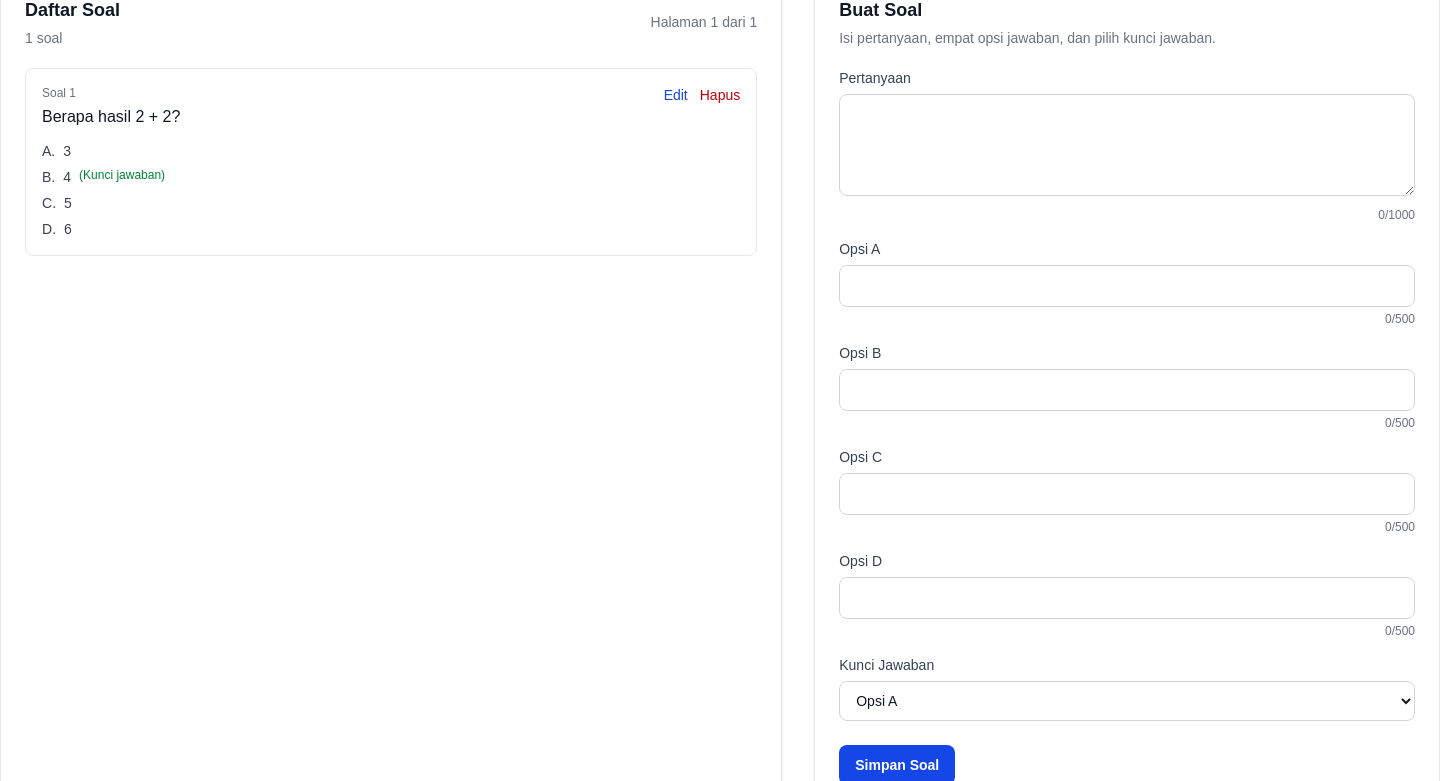
it: QuestionBank › loads a question for editing and updates it
Click the button "Edit".
click(676, 95)  # box [664, 85, 688, 105]
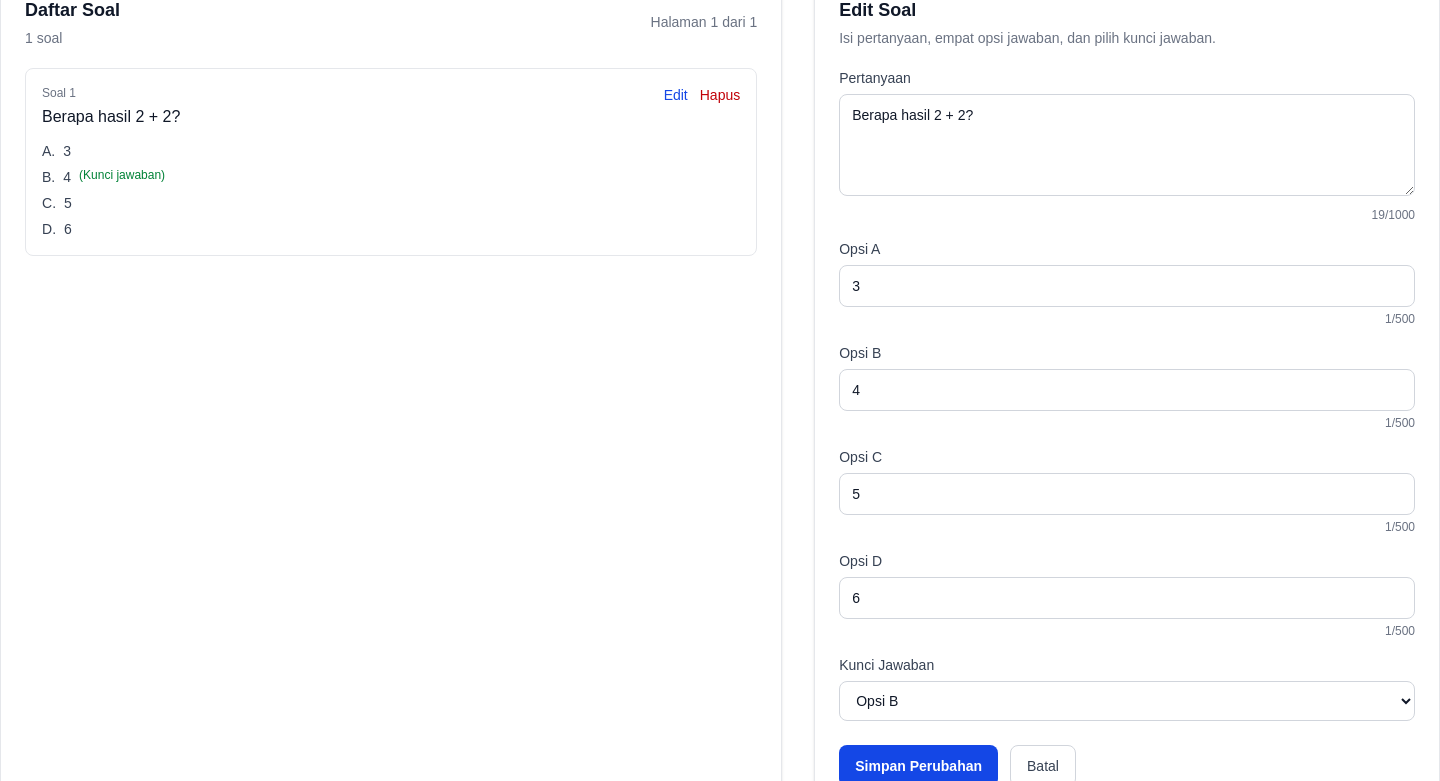
Replace the text in the text box labelled "Pertanyaan" with "Soal diperbarui?" at (1127, 145), box [839, 94, 1415, 196]
(page scrolled)
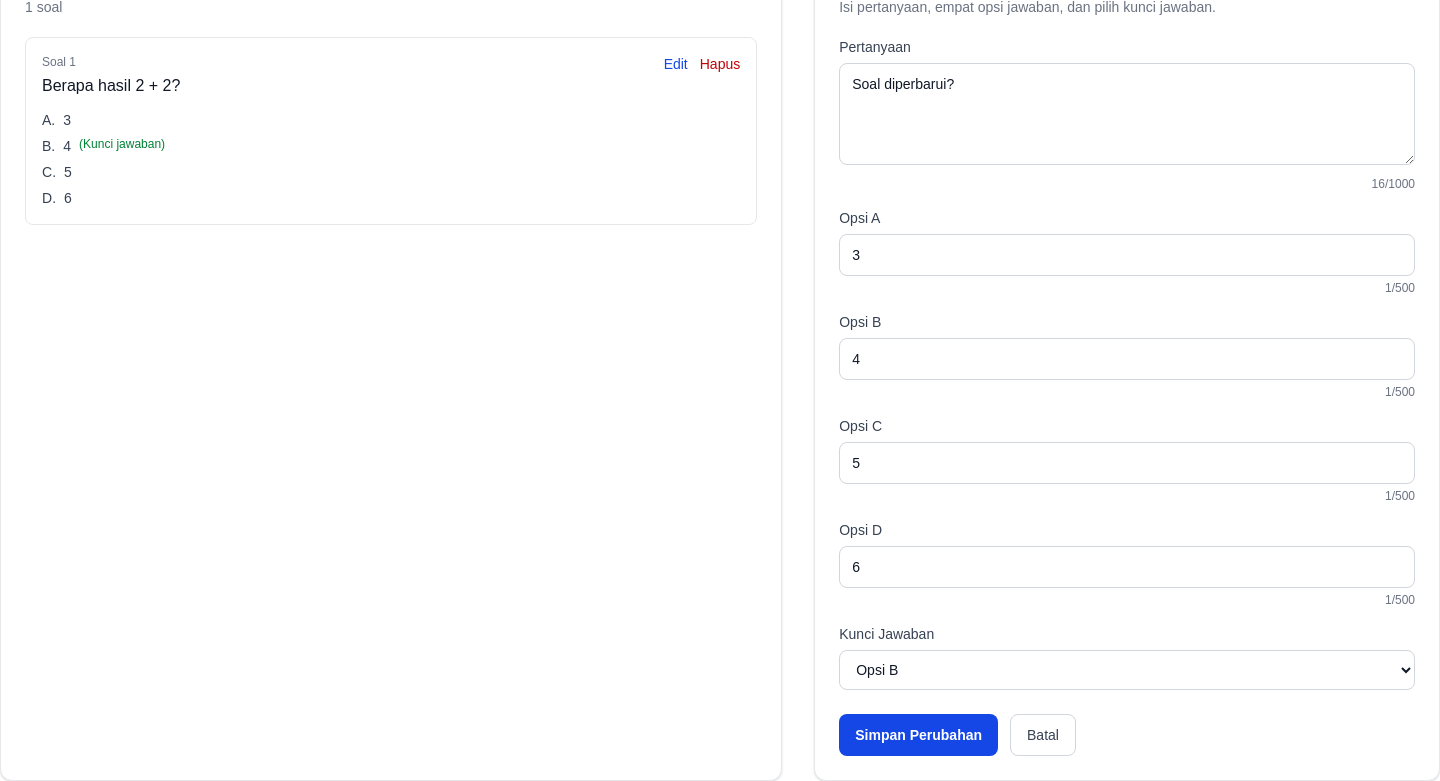
Click the button "Simpan Perubahan".
click(919, 735)  # box [839, 714, 998, 756]
(page scrolled)
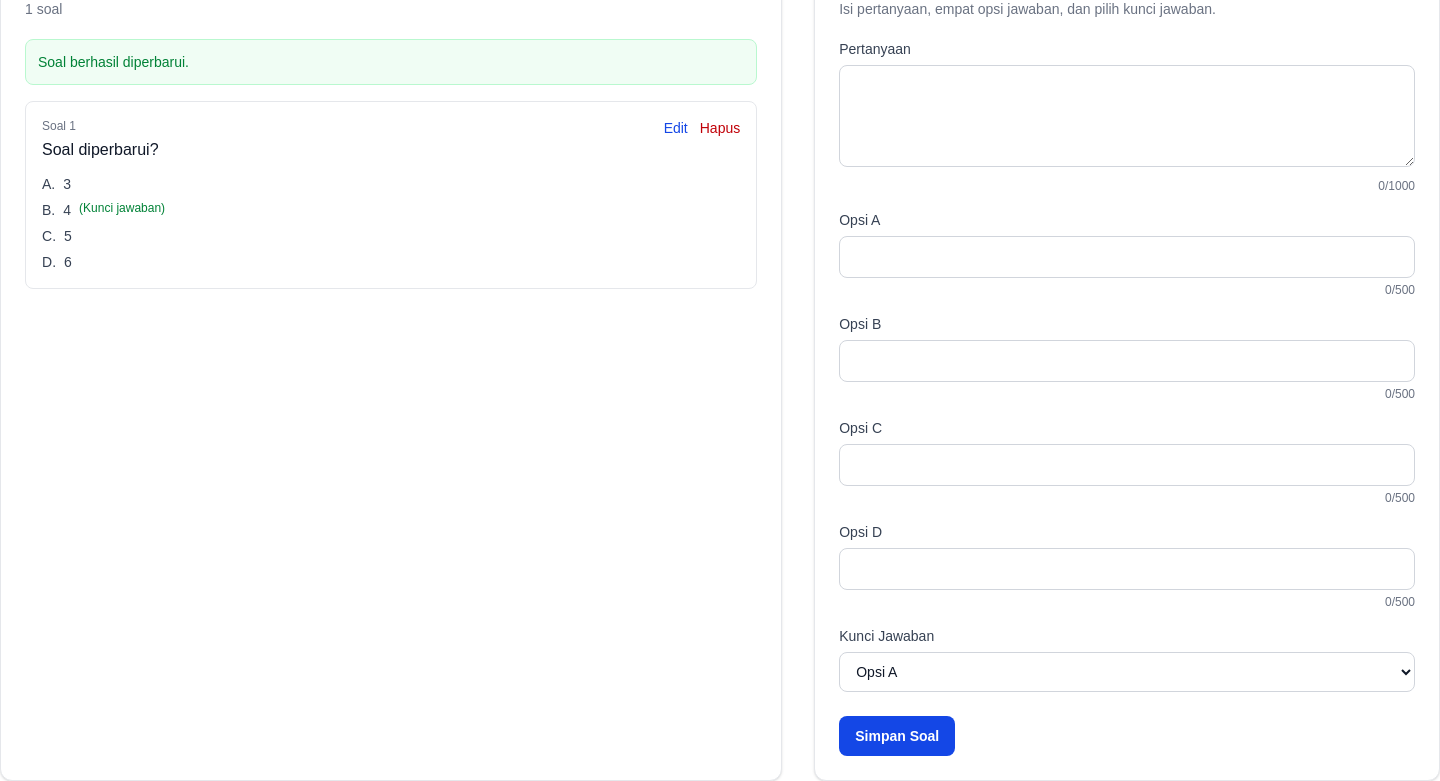
Expected: the message reads "Soal berhasil diperbarui.", [38, 54, 189, 70]
Expected: the text "Soal diperbarui?" is shown, [42, 138, 158, 162]
